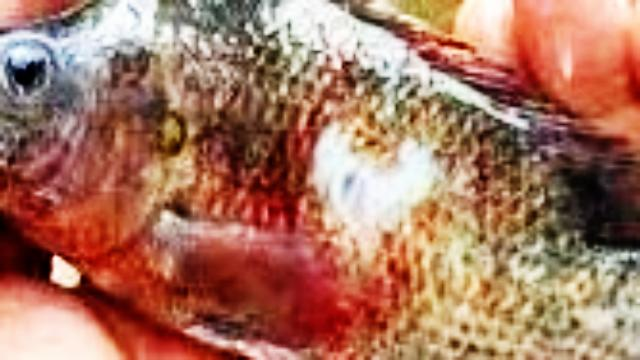Tilapia Lake Virus -TiLV-: (0, 0, 640, 358), (0, 0, 636, 356)
